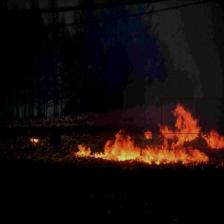fire: (72, 134, 210, 166), (161, 98, 224, 149), (28, 133, 40, 143)
